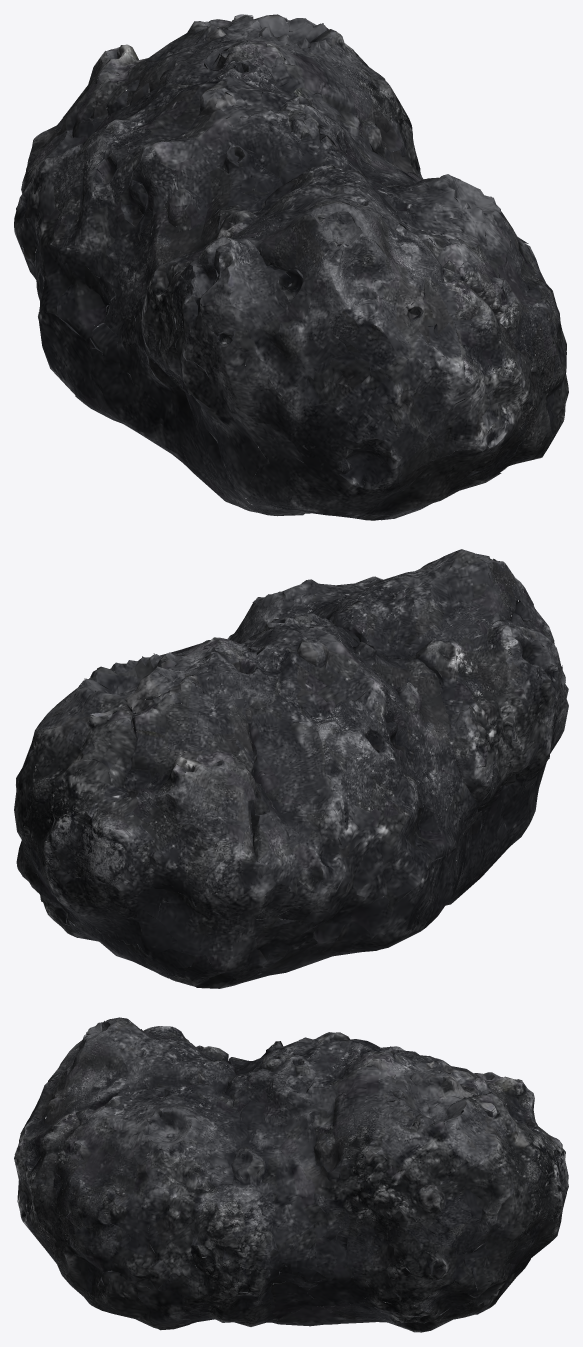
The model's file is meteor.glb.
3 renders of one model, top to bottom at view 1: azimuth 30°, elevation 25°; view 2: azimuth 150°, elevation 25°; view 3: azimuth 270°, elevation 25°, orthographic. The views are drawn at different scales.
Visible parts, largest first — view 1: Mesh_0; view 2: Mesh_0; view 3: Mesh_0.
Boxes of the visible parts, left/top/right/bottom form: Mesh_0: left=14, top=14, right=568, bottom=520; Mesh_0: left=14, top=549, right=568, bottom=988; Mesh_0: left=14, top=1017, right=568, bottom=1332.
Size of the model in its own units: 0.6233 by 0.5234 by 1.
1 material, 1 textured.
